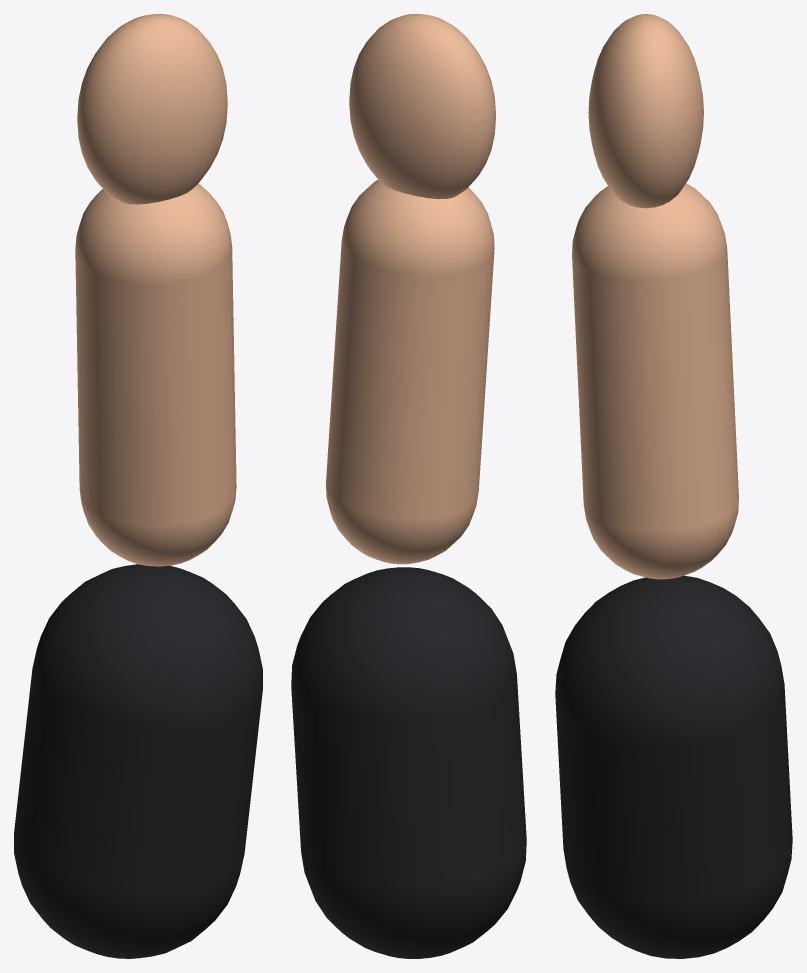
File: brazo.glb
3 views of the same model, side by side, from view 1: azimuth 30°, elevation 25°; view 2: azimuth 150°, elevation 25°; view 3: azimuth 270°, elevation 25° (orthographic). The views are drawn at different scales.
Visible parts, largest first — view 1: manga, antebrazo, mano; view 2: manga, antebrazo, mano; view 3: manga, antebrazo, mano.
Boxes of the visible parts, bbox=[...] form: manga: bbox=[14, 564, 262, 958]; antebrazo: bbox=[75, 184, 236, 566]; mano: bbox=[77, 14, 227, 204]; manga: bbox=[291, 567, 526, 958]; antebrazo: bbox=[326, 180, 494, 564]; mano: bbox=[349, 14, 495, 199]; manga: bbox=[555, 575, 792, 958]; antebrazo: bbox=[572, 183, 738, 579]; mano: bbox=[588, 14, 703, 208].
Bounding box in the file's own units: 0.1323 × 0.5552 × 0.1283.
